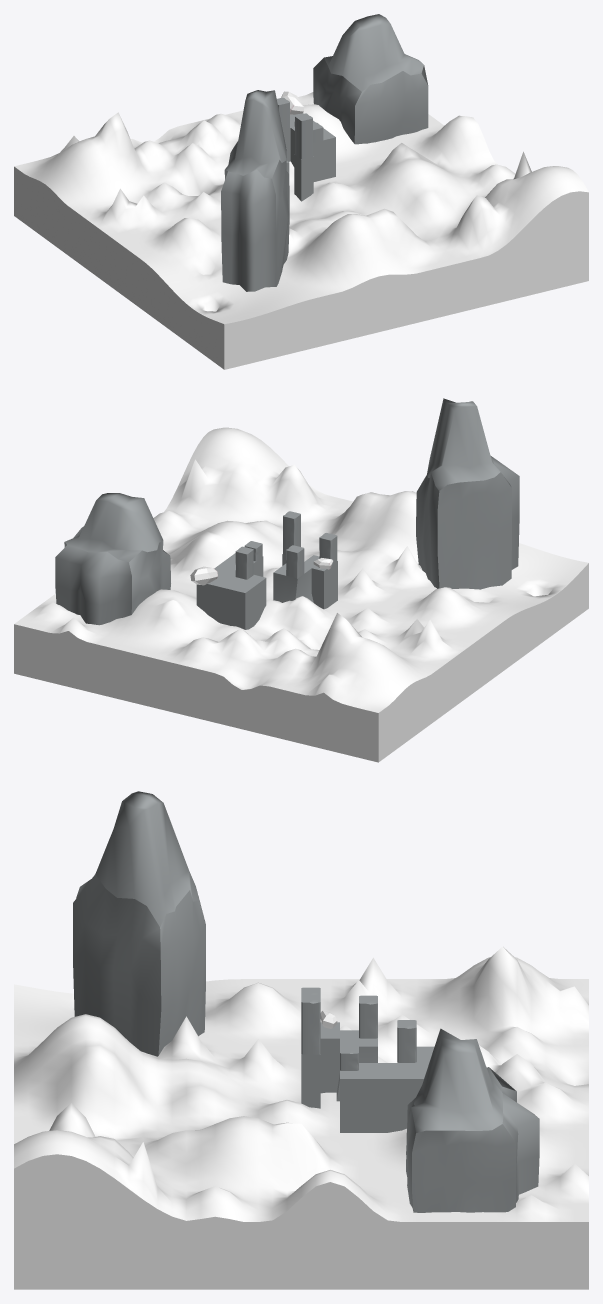
Rendered from peak_columns_easy_env.fbx.
3 renders of one model, top to bottom at view 1: azimuth 30°, elevation 25°; view 2: azimuth 150°, elevation 25°; view 3: azimuth 270°, elevation 25°, orthographic. The views are drawn at different scales.
Visible parts, largest first — view 1: env; view 2: env; view 3: env.
Boxes of the visible parts, x1,y1,x2,y2 form: env: (14, 14, 588, 369); env: (14, 398, 588, 762); env: (14, 791, 588, 1289).
Bounding box in the file's own units: 300 × 175 × 300.
Materials: 1 (1 with a texture image).
